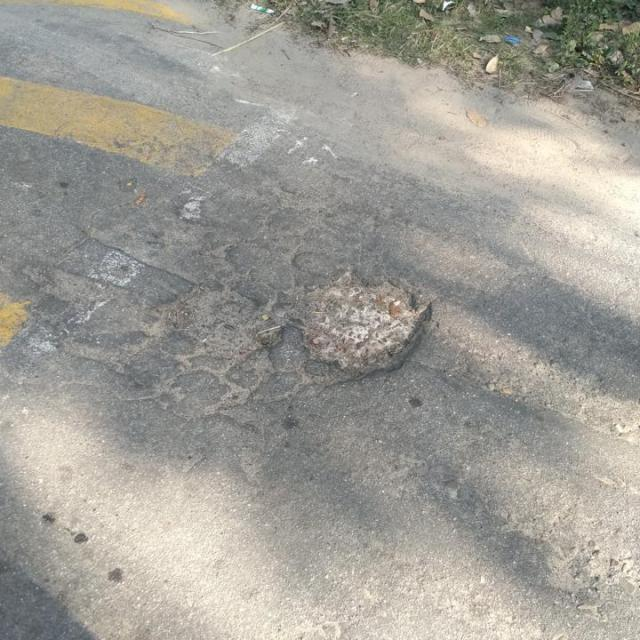Pothole: (292, 270, 440, 385), (149, 282, 289, 366)
